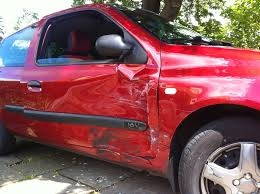Dent: (58, 63, 172, 161)
Scratch: (112, 85, 153, 113), (149, 123, 169, 148)
